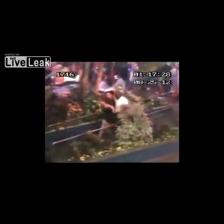person: (100, 88, 128, 136)
